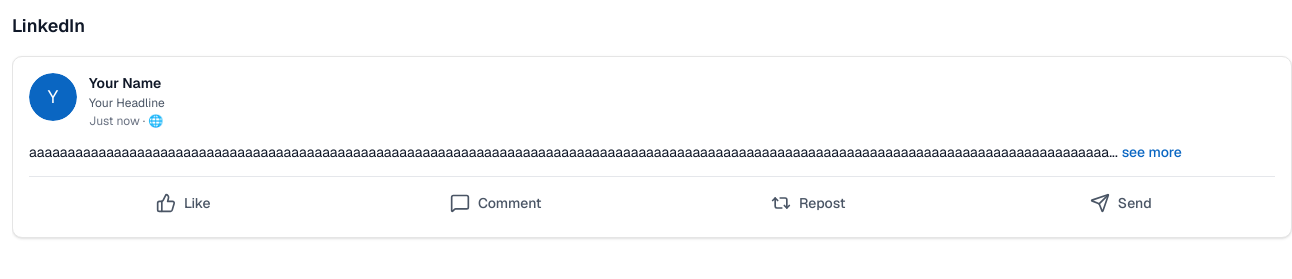
it: LinkedInPreview › Content Truncation (See More) › should expand content when see more is clicked
// Click see more button
Click the button "see more" at point(1152, 152), box [1122,141,1182,164]
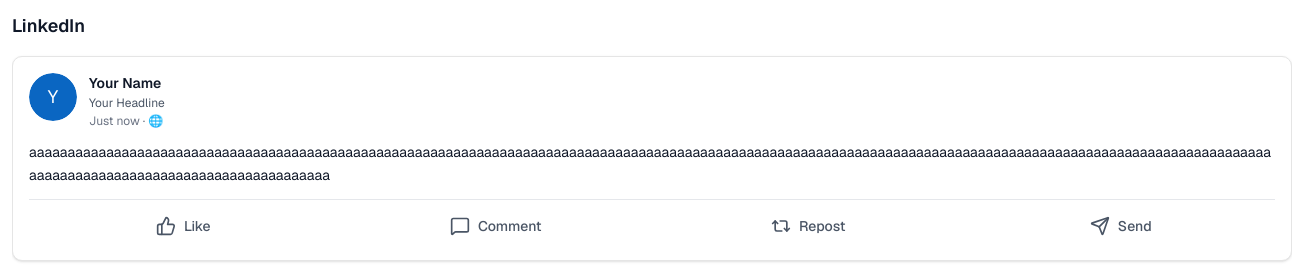
Expected: the button "see more" is gone
